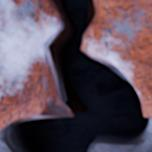broken_brick: (84, 0, 151, 119), (0, 0, 57, 131)
crack: (2, 0, 149, 151)
